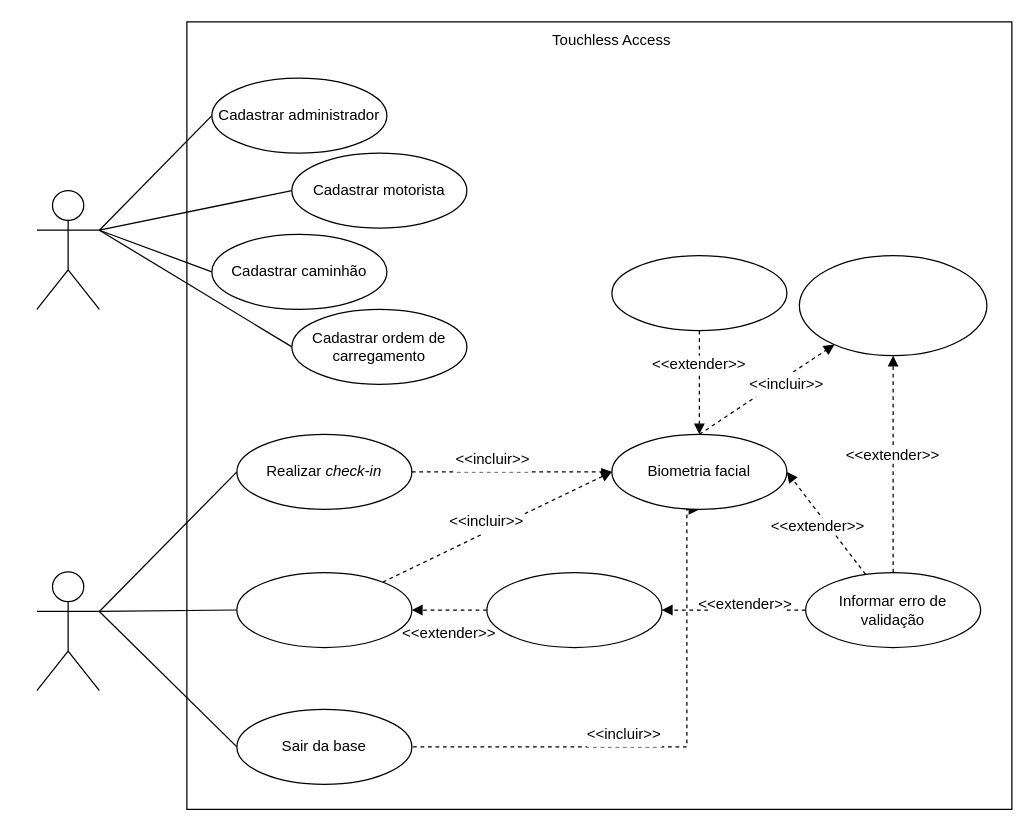
Some shapes in this 1034 by 831 pixel diagram are drawn without their labels. Each missing label, with the centre of its shape:
"Administrador" goes at point (67, 249).
"Entrar na base" goes at point (324, 609).
"Entrar na fila" goes at point (699, 292).
"Leitura de placa" goes at point (574, 609).
"Motorista" goes at point (67, 631).
"Verifica existência ordem de carregamento" goes at point (892, 305).
